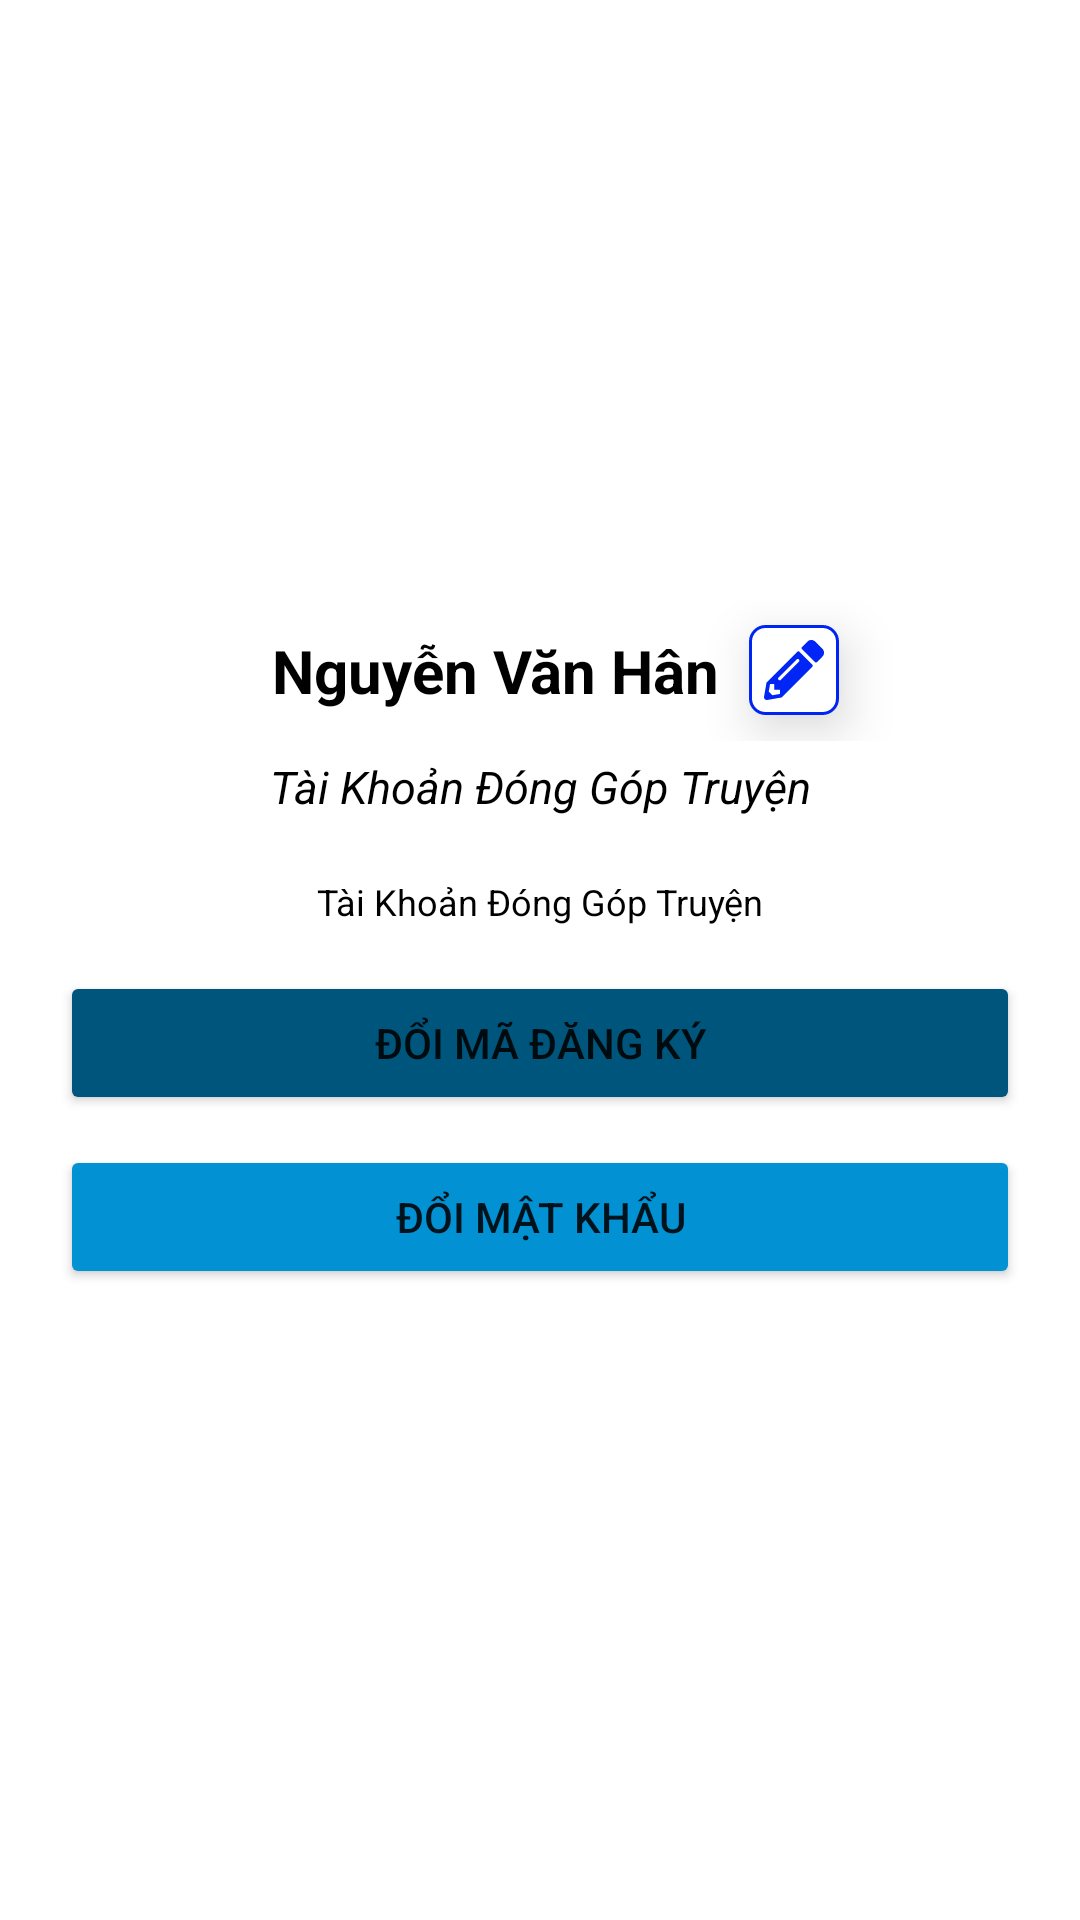

Screen size 1080px x 1920px. Icon name, then its center in pixels as (x,y):
iconupdatetruyen: (794,670)
